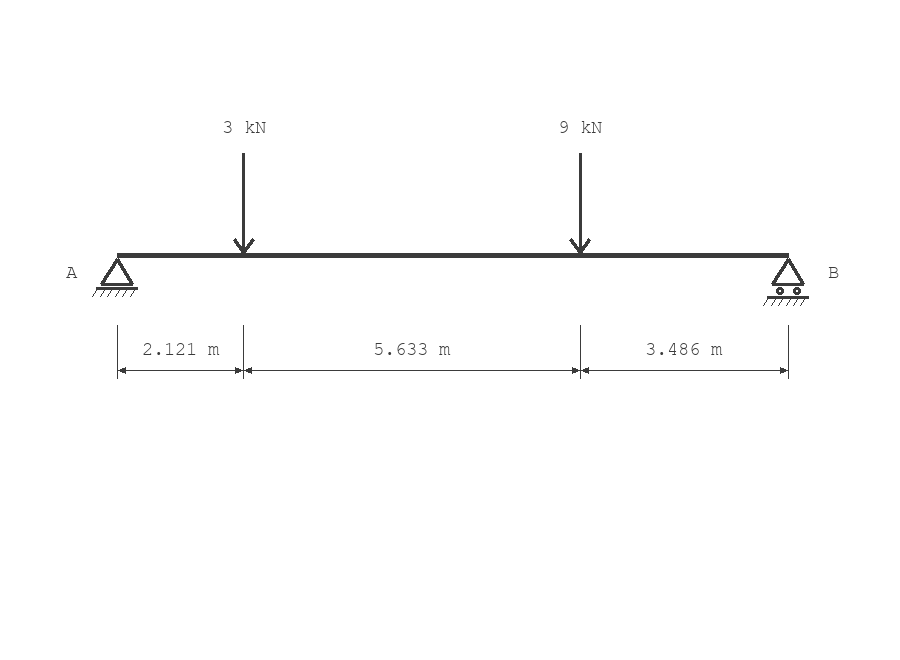pin_support: (92, 258, 138, 297)
point_load: (233, 153, 255, 254), (569, 153, 591, 254)
roller_support: (763, 258, 809, 306)
